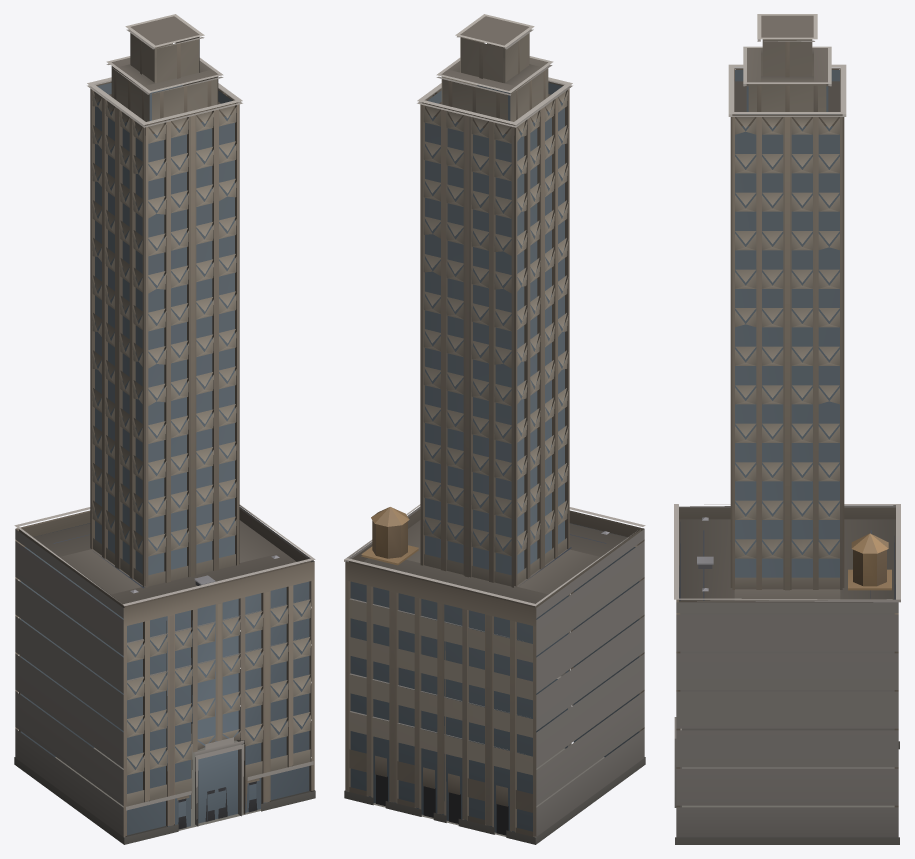
File: deco.lod.glb
3 views of the same model, side by side, from view 1: azimuth 30°, elevation 25°; view 2: azimuth 150°, elevation 25°; view 3: azimuth 270°, elevation 25° (orthographic). The views are drawn at different scales.
Visible parts, largest first — view 1: deco; view 2: deco; view 3: deco.
Part boxes in pixels (box(x1,y1,x2,y2)): deco: box(14, 14, 315, 844); deco: box(344, 14, 645, 844); deco: box(674, 14, 900, 844).
Bounding box in the file's own units: 16 × 60 × 16.
